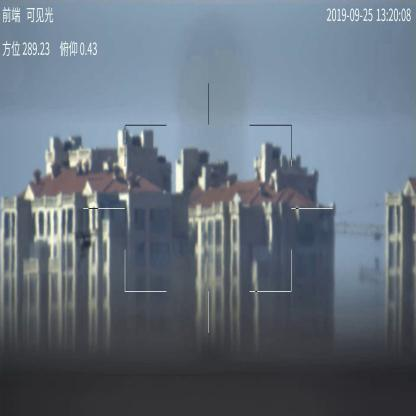uav: (74, 228, 99, 259)
